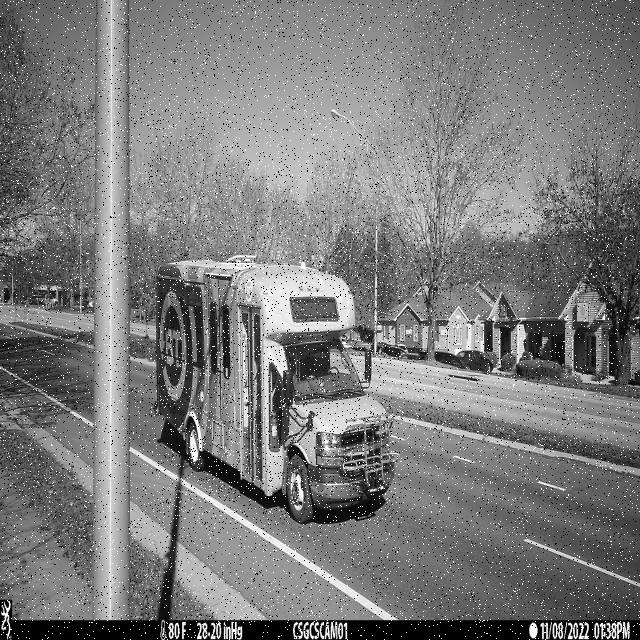Bus- Small: (154, 255, 401, 524)
